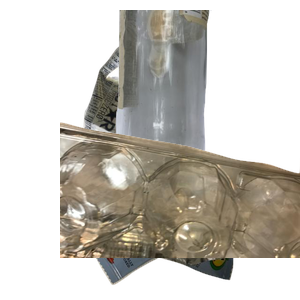glass: (113, 10, 300, 190)
metal: (81, 41, 234, 178)
plastic: (60, 120, 300, 300)
trash: (63, 137, 289, 300)
